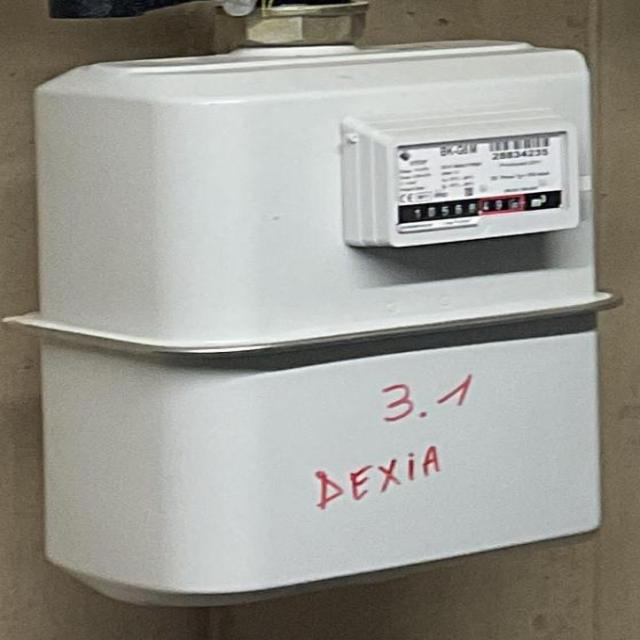gaz_meter: (395, 131, 570, 234)
indication: (398, 192, 520, 225)
